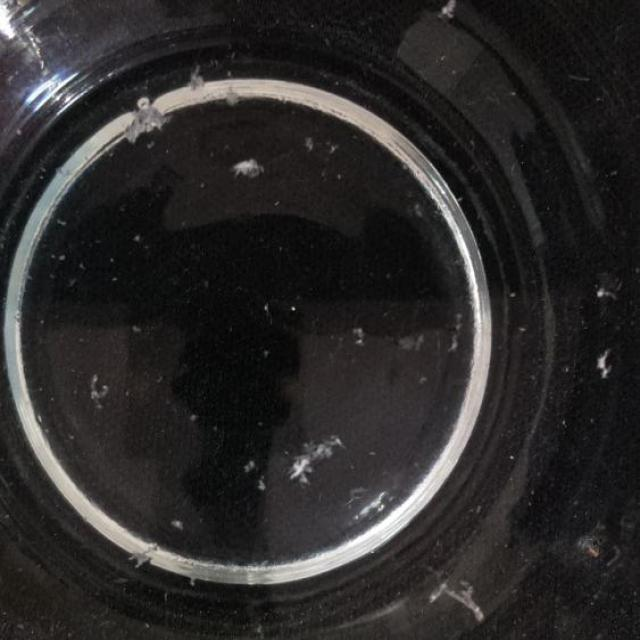fiber: (290, 429, 346, 484), (434, 566, 483, 622), (123, 93, 174, 145), (592, 273, 622, 302), (90, 367, 108, 411), (188, 66, 210, 102), (450, 314, 465, 358), (596, 348, 612, 387), (222, 78, 242, 105), (232, 158, 260, 177), (132, 544, 158, 564), (402, 332, 426, 352), (437, 2, 460, 20), (351, 327, 367, 346), (304, 132, 316, 154), (170, 516, 185, 532), (326, 140, 341, 156), (255, 478, 269, 494), (56, 213, 69, 230), (245, 461, 258, 474), (134, 230, 144, 246), (130, 324, 146, 334), (263, 298, 274, 312), (187, 410, 198, 422)
